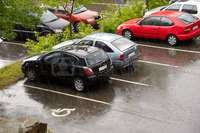car: (19, 45, 113, 91), (115, 11, 200, 45), (58, 32, 136, 66)
